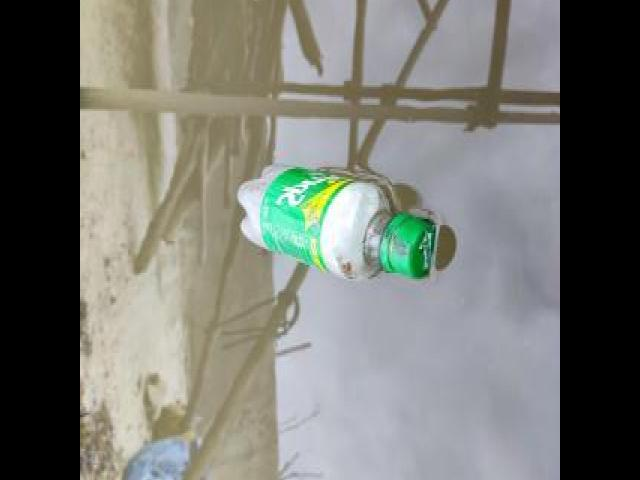Bottle: (229, 151, 446, 296)
